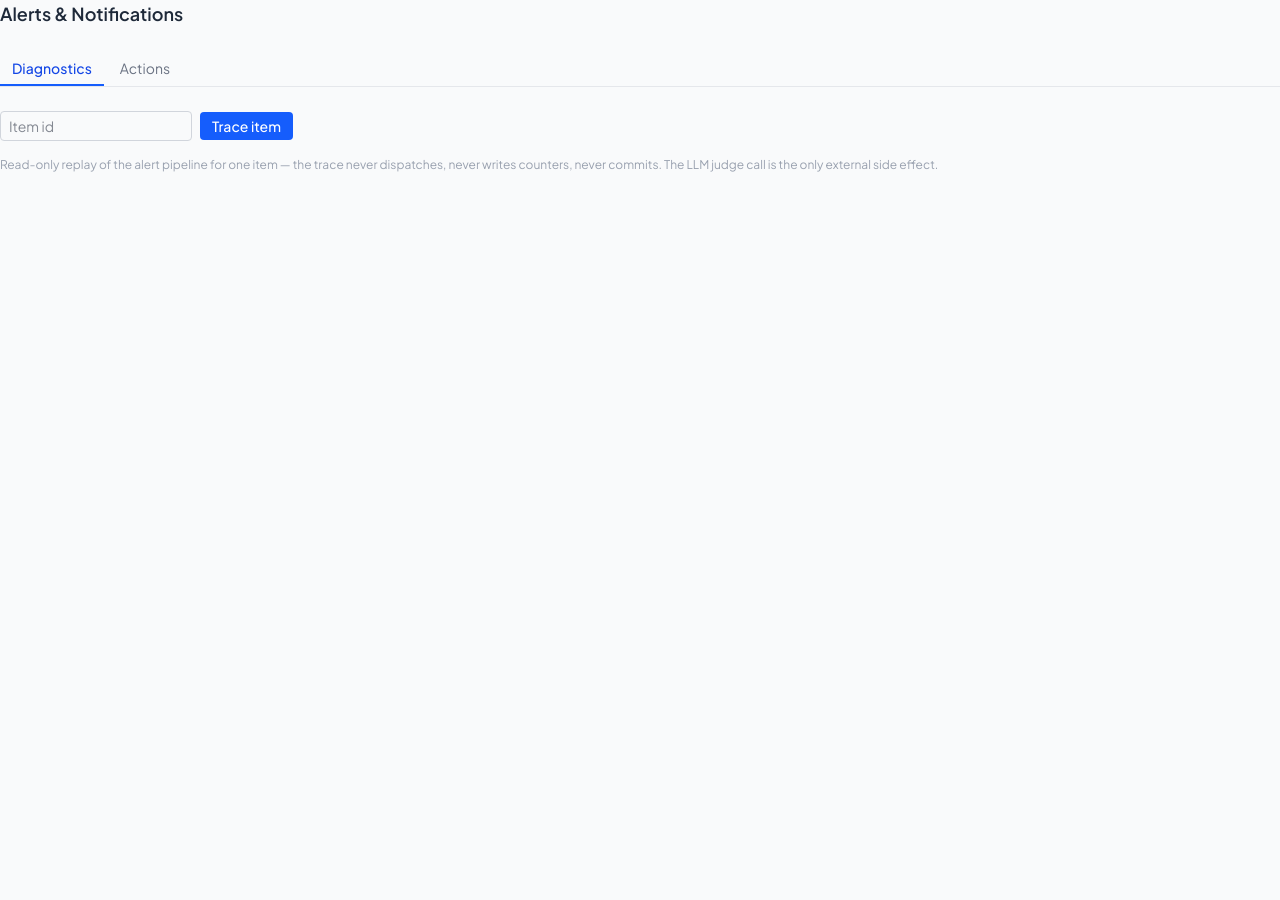
it: Actions sub-view › reconcile calls the verb and renders the summary
The width and height of the screenshot is (1280, 900).
Click the button "Actions".
click(145, 69)  # box [108,52,182,86]
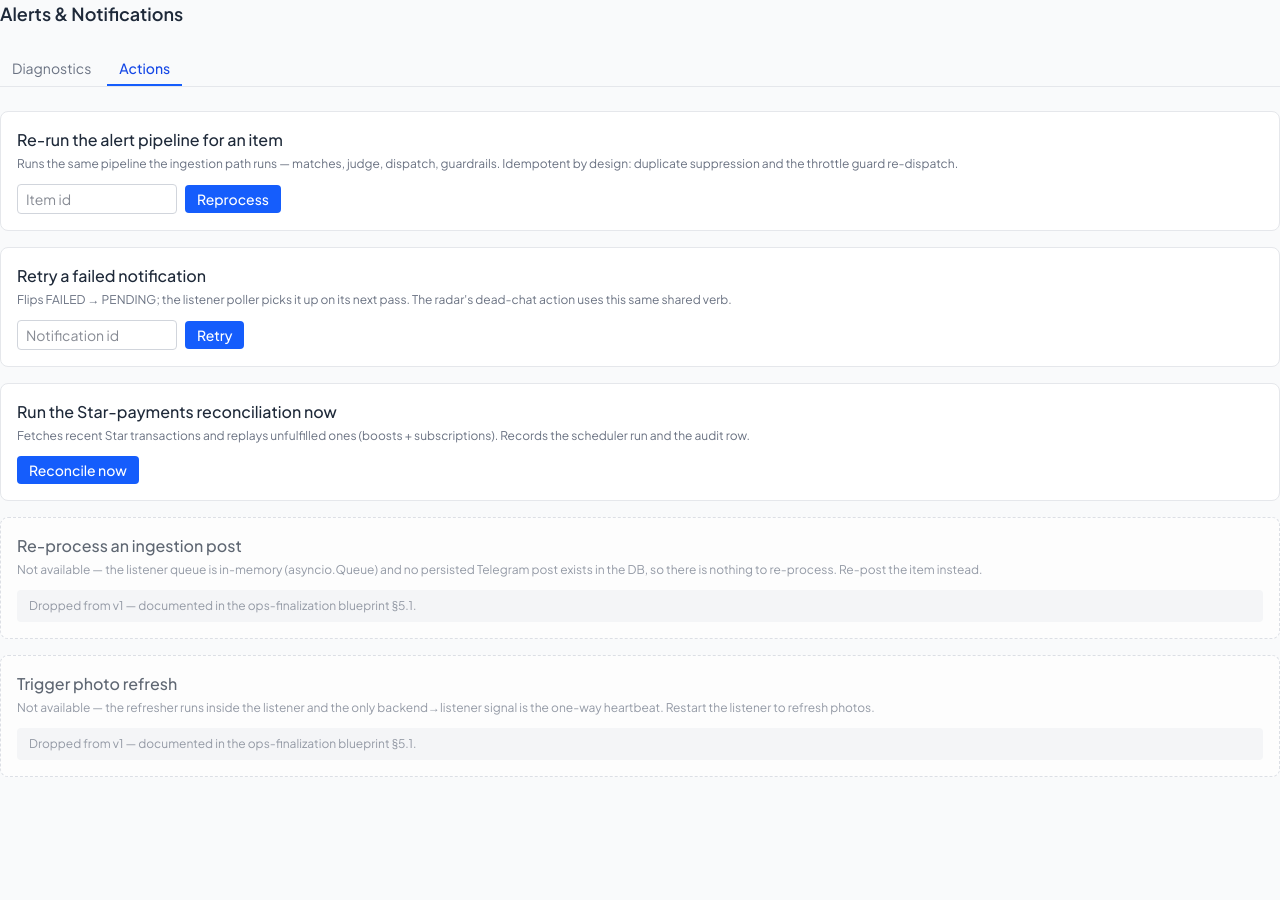
Click the button "Reconcile now".
click(78, 470)  # box [17,456,139,484]
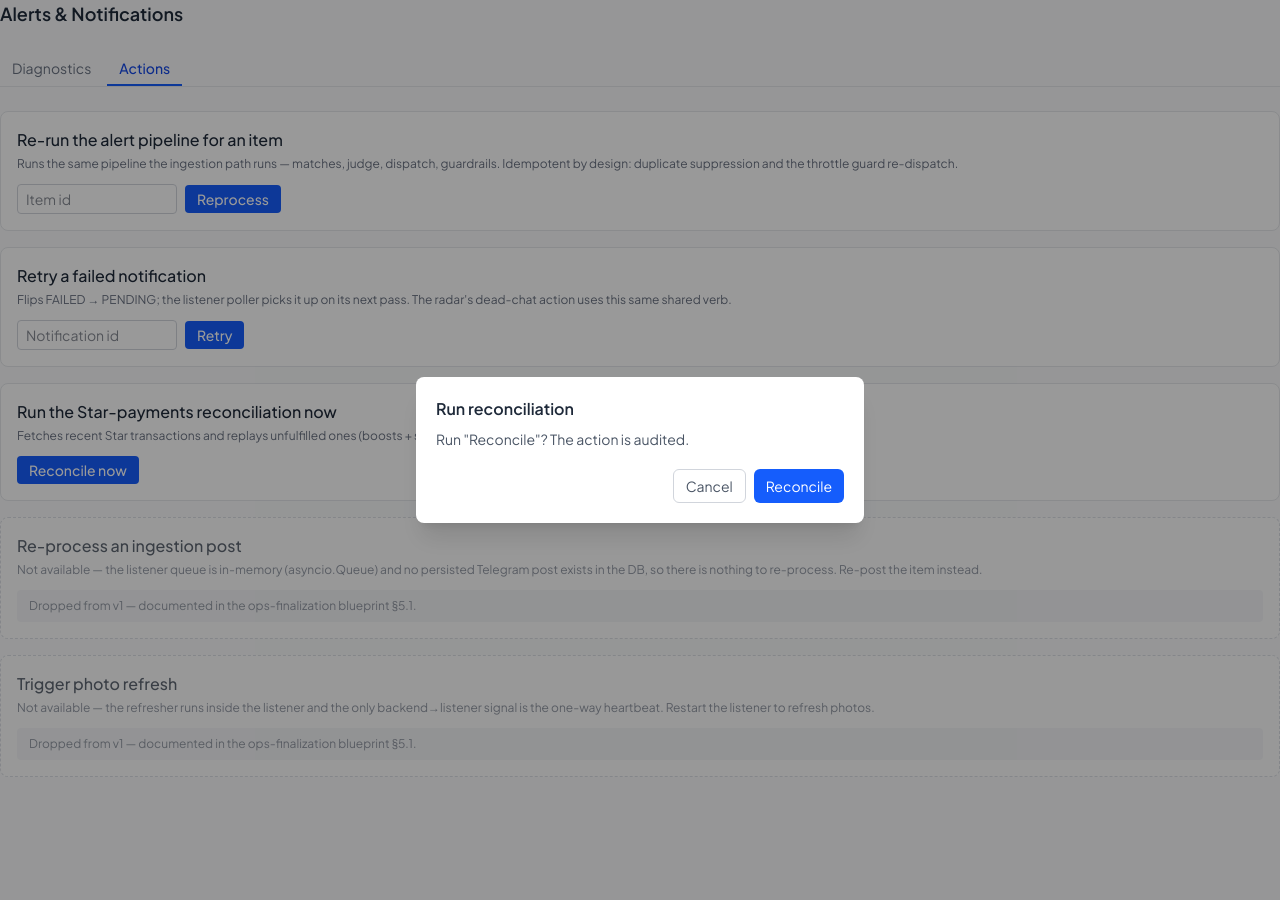
Click the button "Reconcile".
click(799, 486)  # box [754,469,844,503]
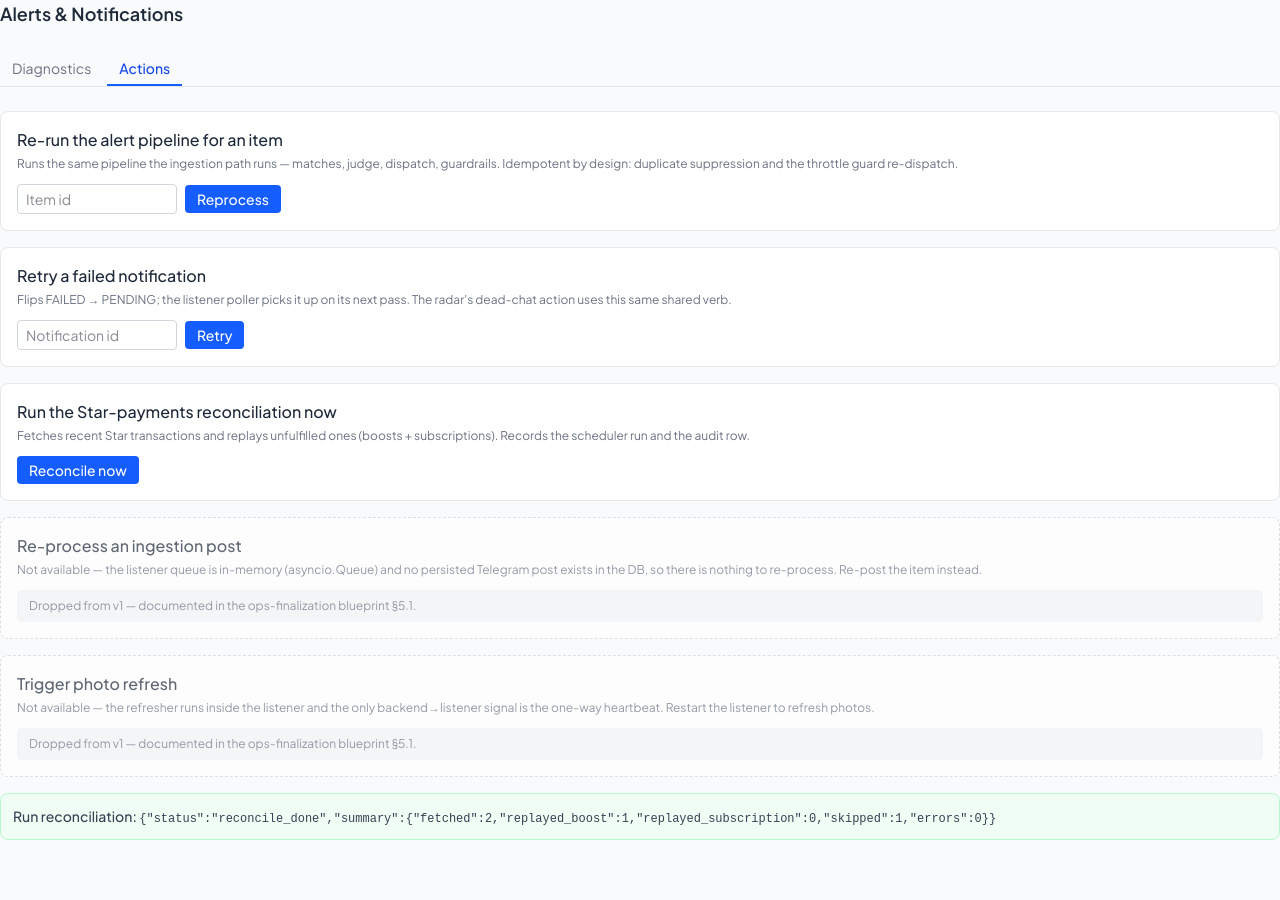
Expected: the element with test id "action-result" shows "replayed_boost", [139,812,996,826]
